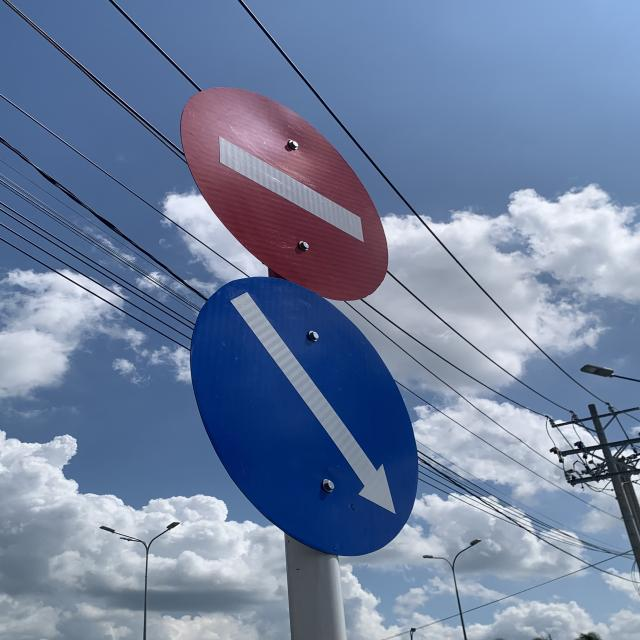Cam_Di_Nguoc_Chieu: (179, 84, 392, 300)
Chi_Huong_Di_Phai: (190, 276, 420, 558)
